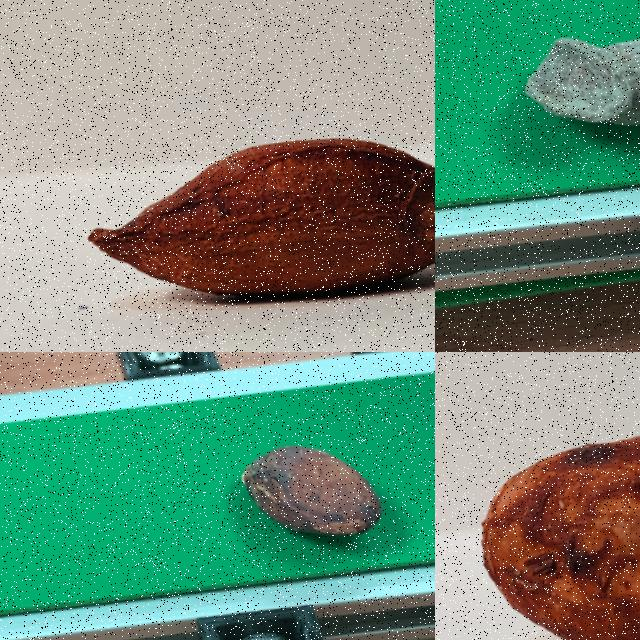Agglomerated_cocoabeans: (435, 380, 639, 639), (435, 0, 639, 200)
Fine_cocoabeans: (0, 77, 434, 351), (162, 404, 434, 603)
